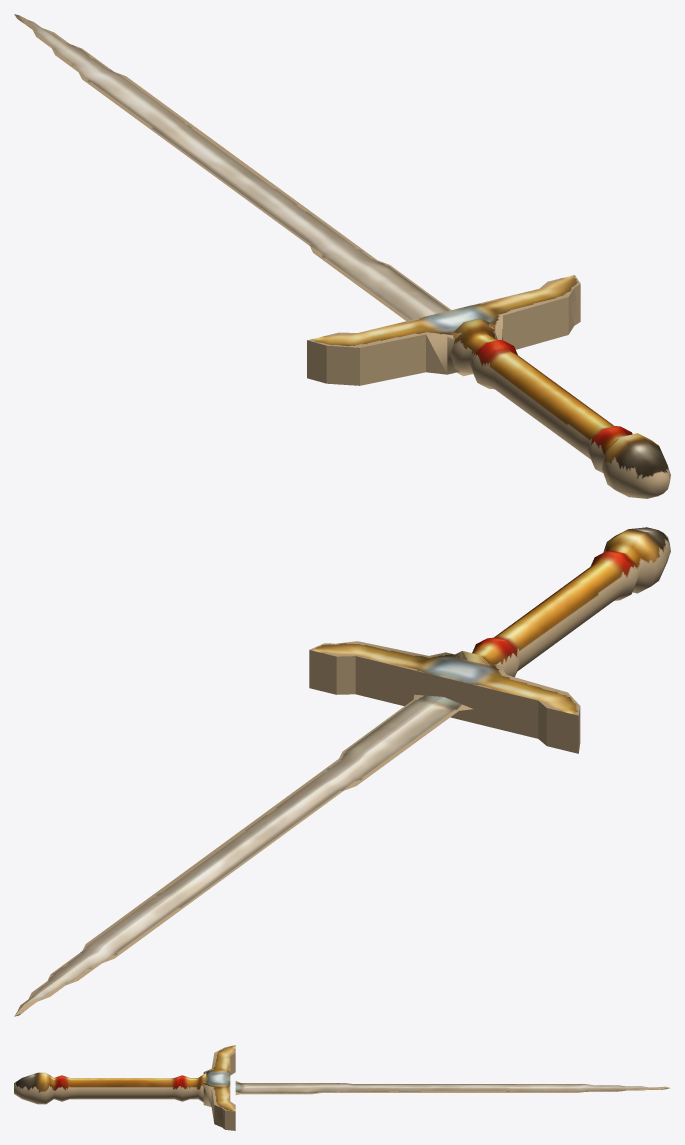
Rendered from item_mm9_10181.glb.
3 views of the same model, one above another, from view 1: azimuth 30°, elevation 25°; view 2: azimuth 150°, elevation 25°; view 3: azimuth 270°, elevation 25° (orthographic). The views are drawn at different scales.
Visible parts, largest first — view 1: d10181; view 2: d10181; view 3: d10181.
Part boxes in pixels (x1=…): d10181: x1=14, y1=14, x2=670, y2=498; d10181: x1=14, y1=527, x2=670, y2=1016; d10181: x1=14, y1=1045, x2=669, y2=1130.
Size of the model in its own units: 26.55 by 5.14 by 111.
Materials: 1 (1 with a texture image).
